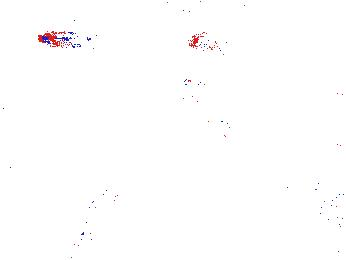X-ray fish: (154, 1, 211, 30)
glassfish: (76, 175, 131, 249), (207, 117, 294, 154)
red belly glassfish: (185, 31, 227, 55), (38, 30, 87, 49), (180, 73, 230, 91)
